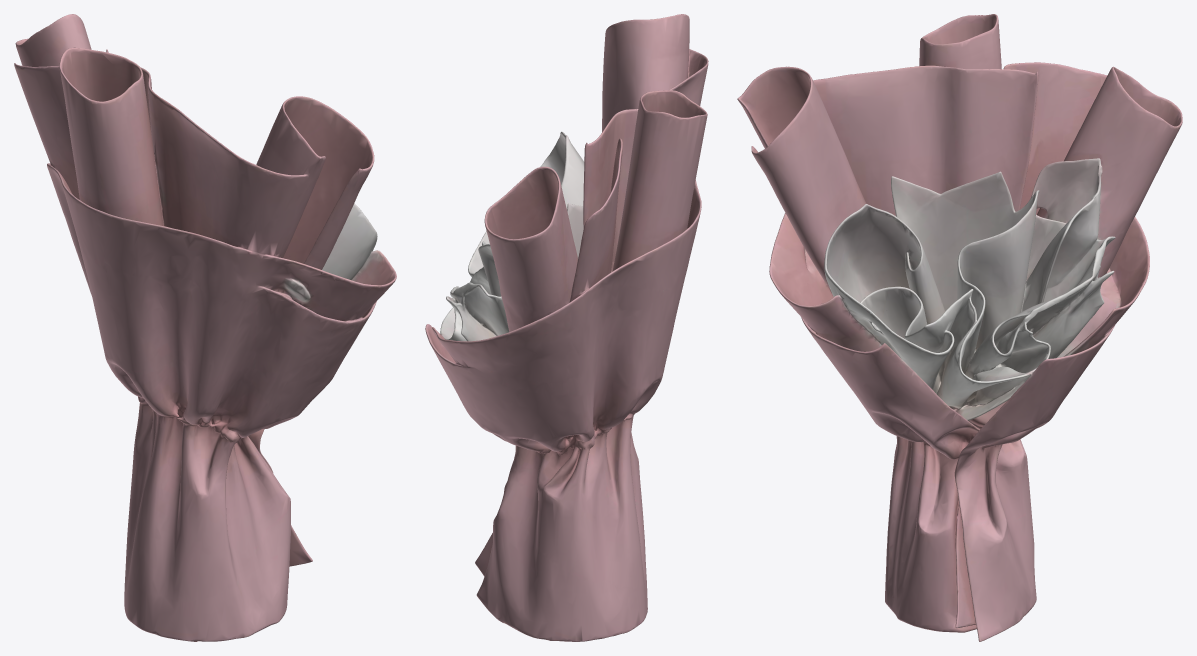
Rendered from pink flower bouquet 3d model_opt.glb.
3 renders of one model, left to right at view 1: azimuth 30°, elevation 25°; view 2: azimuth 150°, elevation 25°; view 3: azimuth 270°, elevation 25°, orthographic. The views are drawn at different scales.
Visible parts, largest first — view 1: tripo_node_dcffb2e8-c53e-4302-934a-b40500e5a14c; view 2: tripo_node_dcffb2e8-c53e-4302-934a-b40500e5a14c; view 3: tripo_node_dcffb2e8-c53e-4302-934a-b40500e5a14c.
Part boxes in pixels (<box>): tripo_node_dcffb2e8-c53e-4302-934a-b40500e5a14c: <box>14,14,396,641</box>; tripo_node_dcffb2e8-c53e-4302-934a-b40500e5a14c: <box>425,14,708,641</box>; tripo_node_dcffb2e8-c53e-4302-934a-b40500e5a14c: <box>737,14,1182,641</box>.
Size of the model in its own units: 0.4832 by 0.9999 by 0.7556.
Materials: 1 (1 with a texture image).
